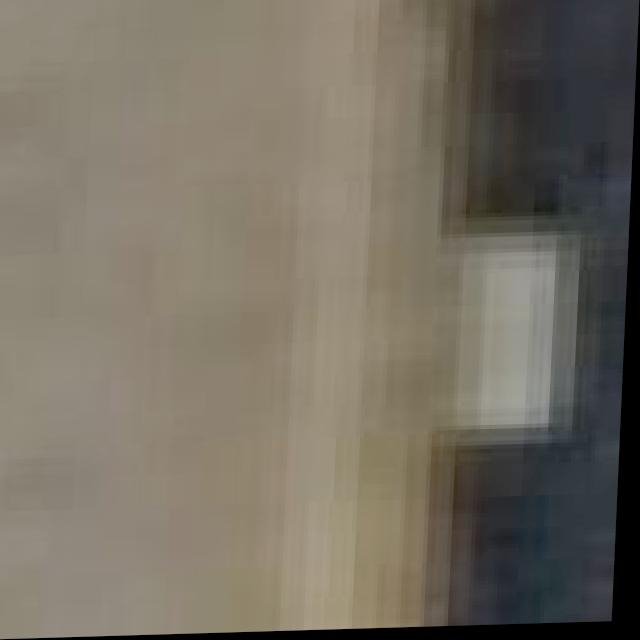clock: (0, 0, 488, 640)
